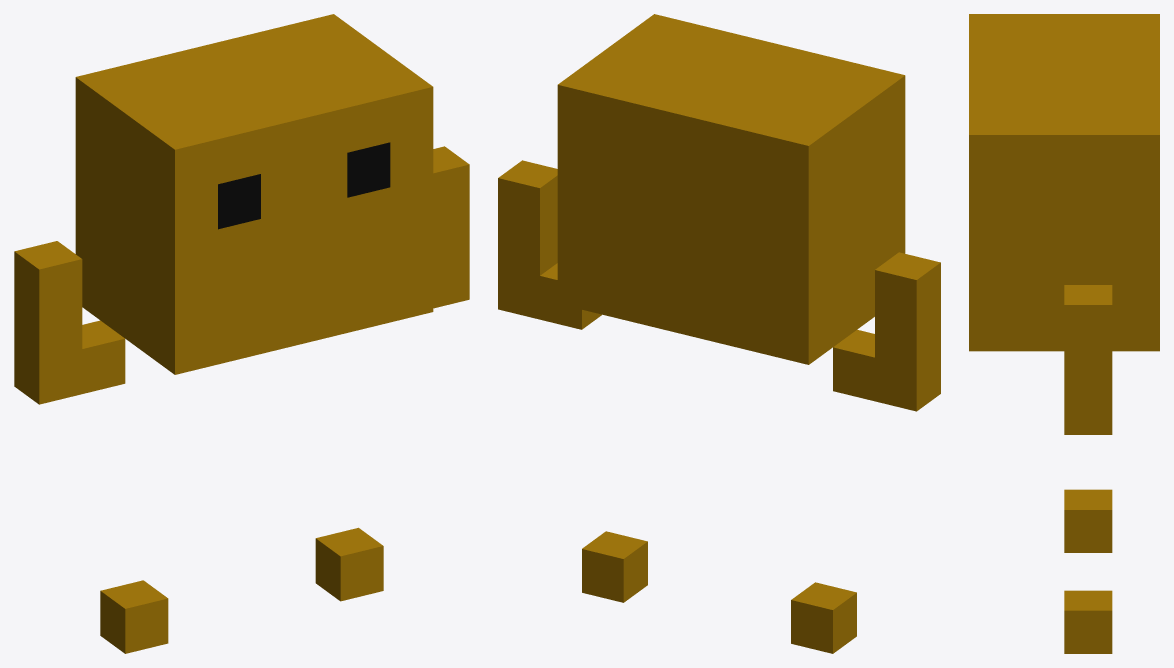
Rendered from ModSmith-3.obj.
3 views of the same model, side by side, from view 1: azimuth 30°, elevation 25°; view 2: azimuth 150°, elevation 25°; view 3: azimuth 270°, elevation 25° (orthographic). The views are drawn at different scales.
Size of the model in its own units: 1 by 1.2 by 0.4.
Materials: 1 (1 with a texture image).
